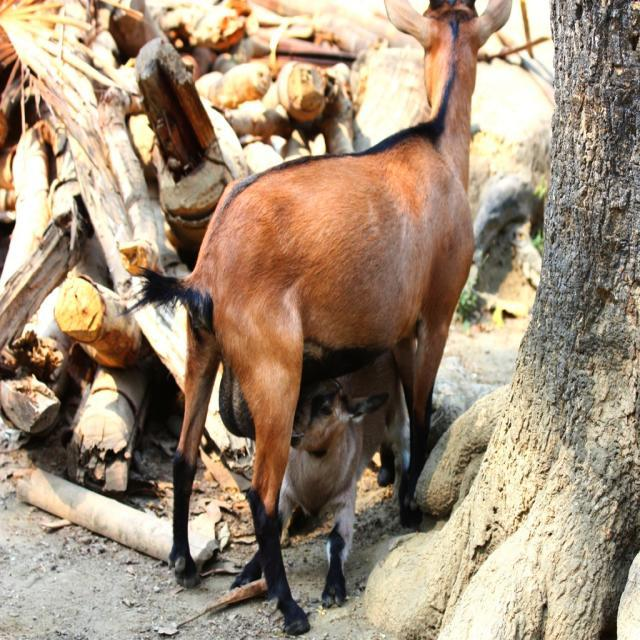Goat: (124, 0, 515, 635), (219, 345, 414, 610)
